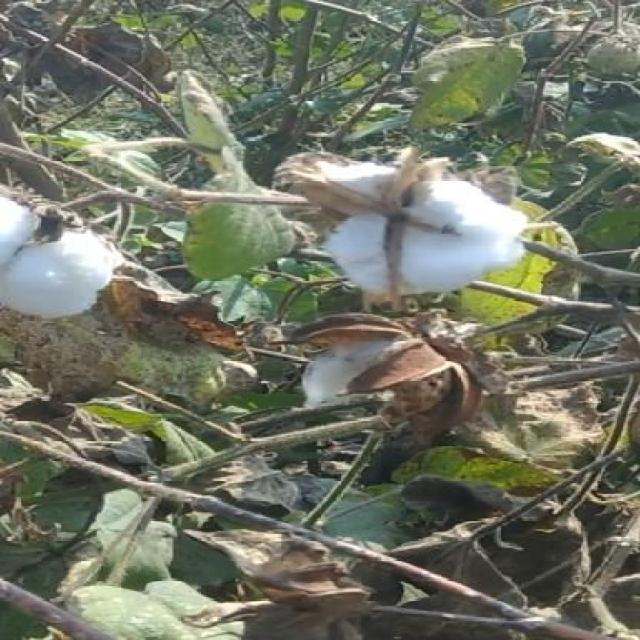cotton_ready: (250, 161, 555, 302)
